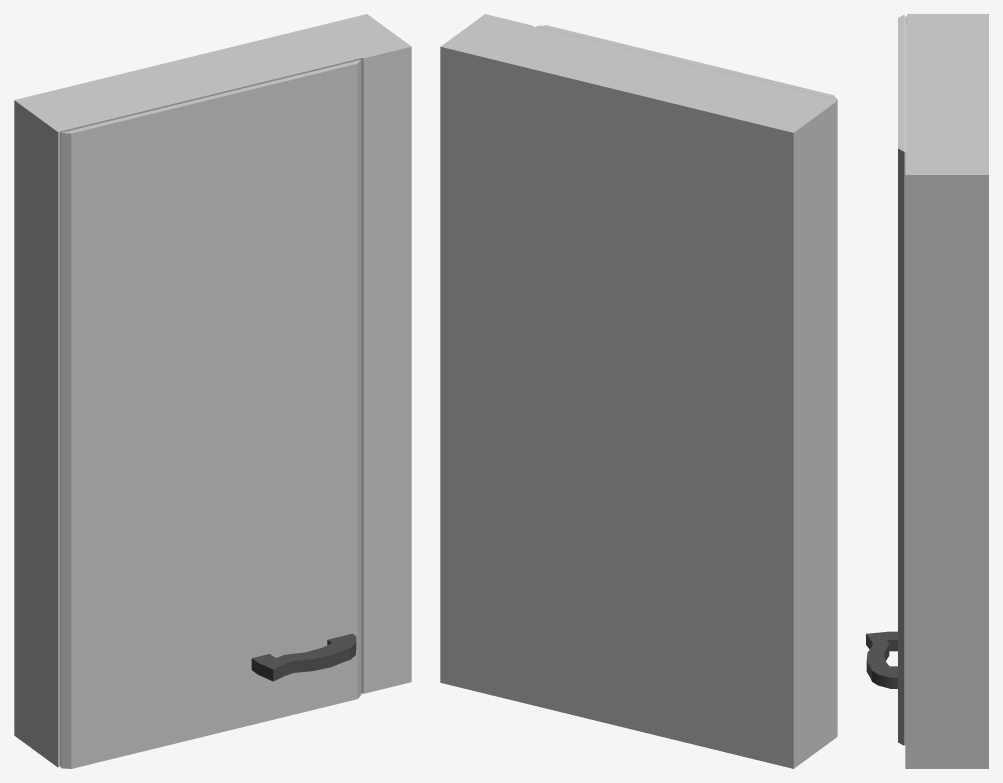
File: electricity_panel_01.fbx
3 renders of one model, left to right at view 1: azimuth 30°, elevation 25°; view 2: azimuth 150°, elevation 25°; view 3: azimuth 270°, elevation 25°, orthographic. The views are drawn at different scales.
Parts seen in each view (by area): view 1: electricity_panel_01; view 2: electricity_panel_01; view 3: electricity_panel_01.
Boxes of the visible parts, x1,y1,x2,y2 form: electricity_panel_01: [14, 14, 411, 768]; electricity_panel_01: [440, 14, 837, 768]; electricity_panel_01: [866, 14, 988, 768].
Size of the model in its own units: 83.75 by 144 by 26.98.
